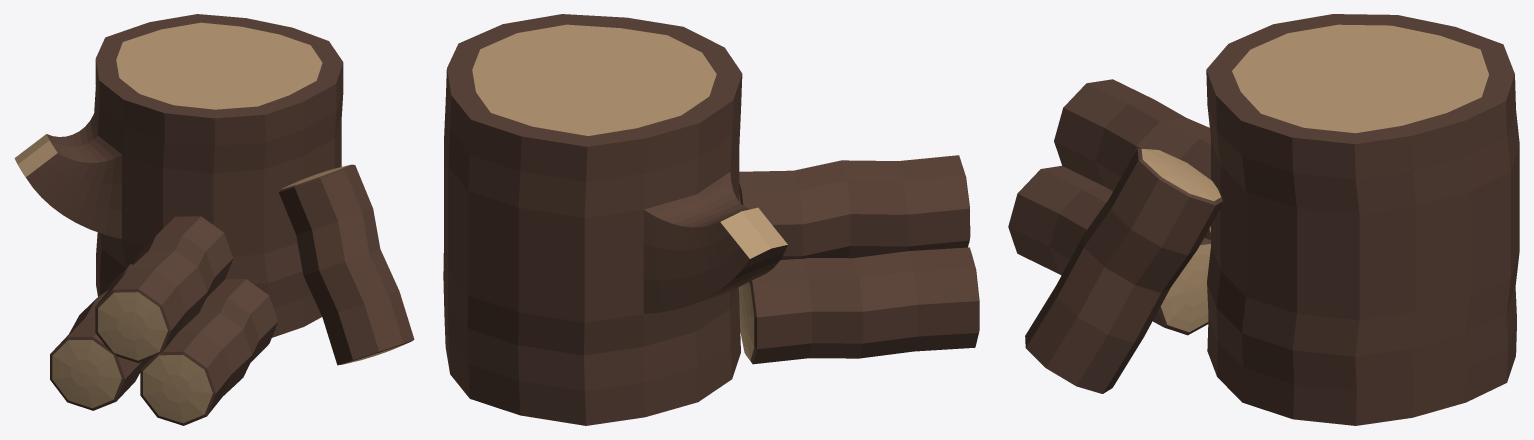
The model's file is ChoppingBlock(Pickup).fbx.
The picture shows the model from 3 angles, left to right: view 1: azimuth 30°, elevation 25°; view 2: azimuth 150°, elevation 25°; view 3: azimuth 270°, elevation 25°; orthographic projection. The views are drawn at different scales.
Parts seen in each view (by area): view 1: Chopping_Block; view 2: Chopping_Block; view 3: Chopping_Block.
Part boxes in pixels (x1,y1,x2,y2): Chopping_Block: (14, 14, 414, 425); Chopping_Block: (443, 14, 979, 425); Chopping_Block: (1008, 14, 1519, 425).
Bounding box in the file's own units: 49.05 × 30.41 × 49.42.
